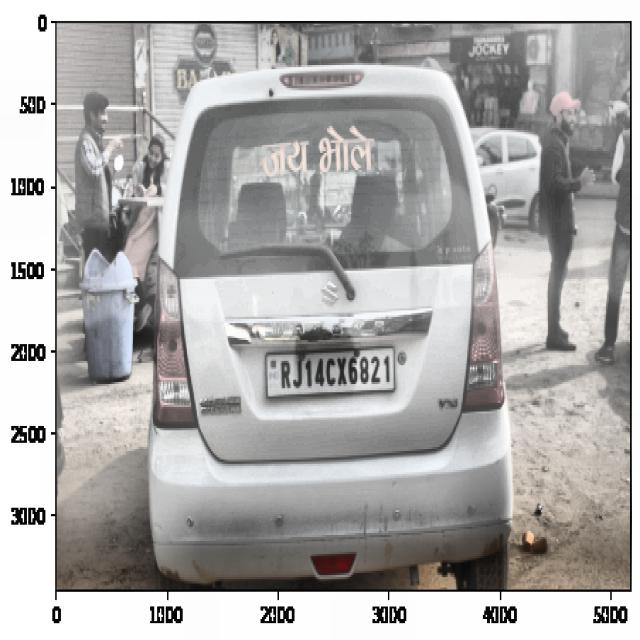license_plate: (275, 348, 397, 396)
